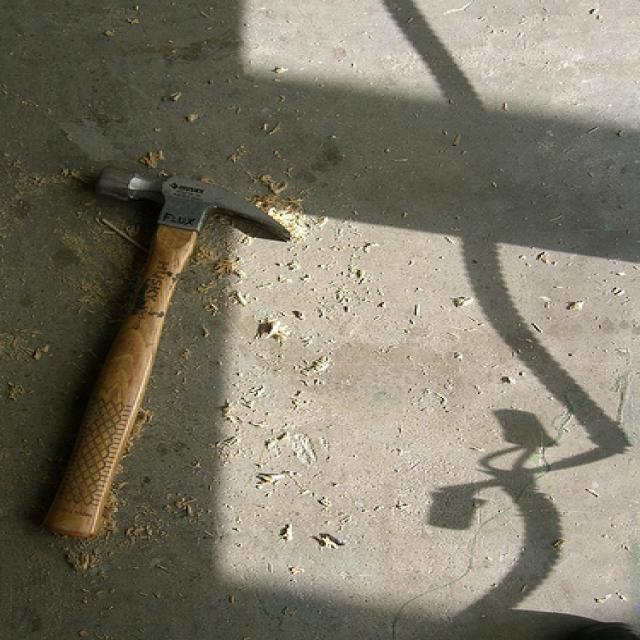hammer: (28, 150, 302, 548)
